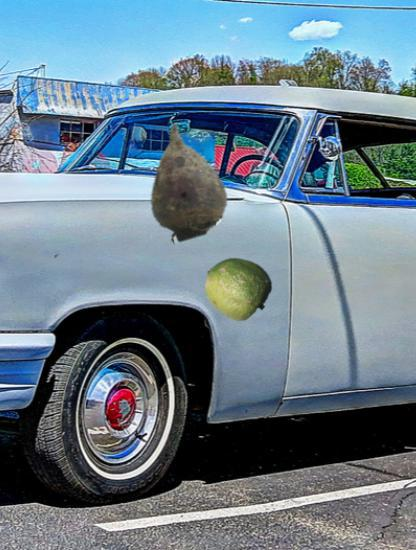Beetroot: (125, 123, 244, 242)
Limes: (204, 254, 271, 321)
